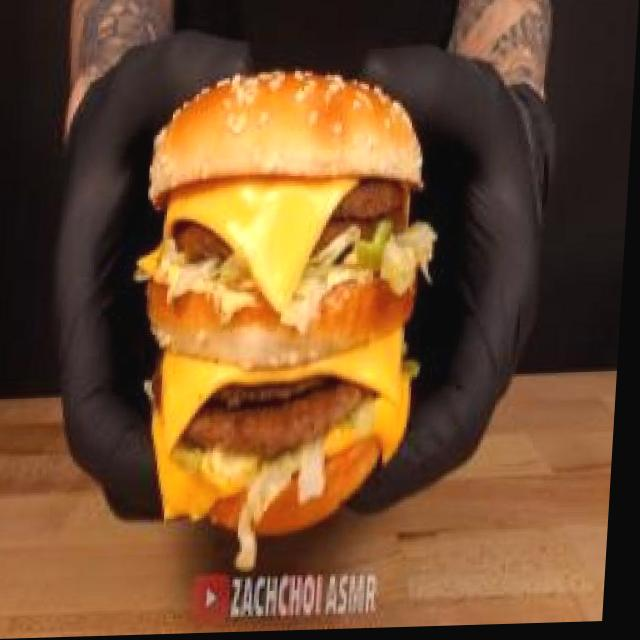burger: (123, 54, 460, 580)
